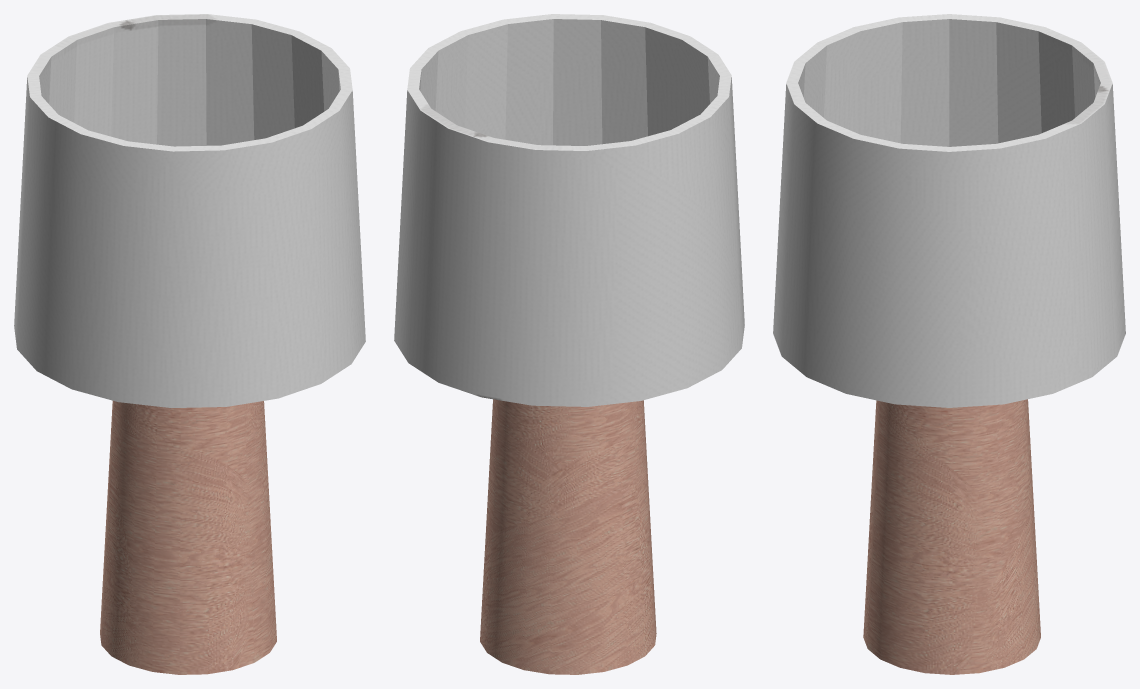
File: Lamp.fbx
3 renders of one model, left to right at view 1: azimuth 30°, elevation 25°; view 2: azimuth 150°, elevation 25°; view 3: azimuth 270°, elevation 25°, orthographic.
Visible parts, largest first — view 1: LampBO_OBJ; view 2: LampBO_OBJ; view 3: LampBO_OBJ.
Boxes of the visible parts, bbox=[...] form: LampBO_OBJ: bbox=[14, 14, 365, 674]; LampBO_OBJ: bbox=[394, 14, 744, 674]; LampBO_OBJ: bbox=[773, 14, 1125, 674].
Size of the model in its own units: 18.1 by 31.38 by 18.1.
1 material, 1 textured.
